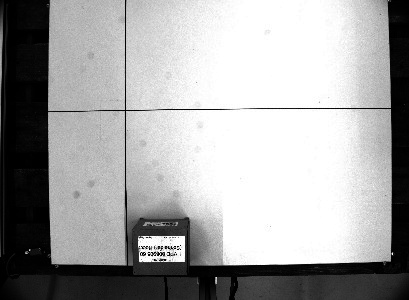b5: (129, 214, 193, 280)
